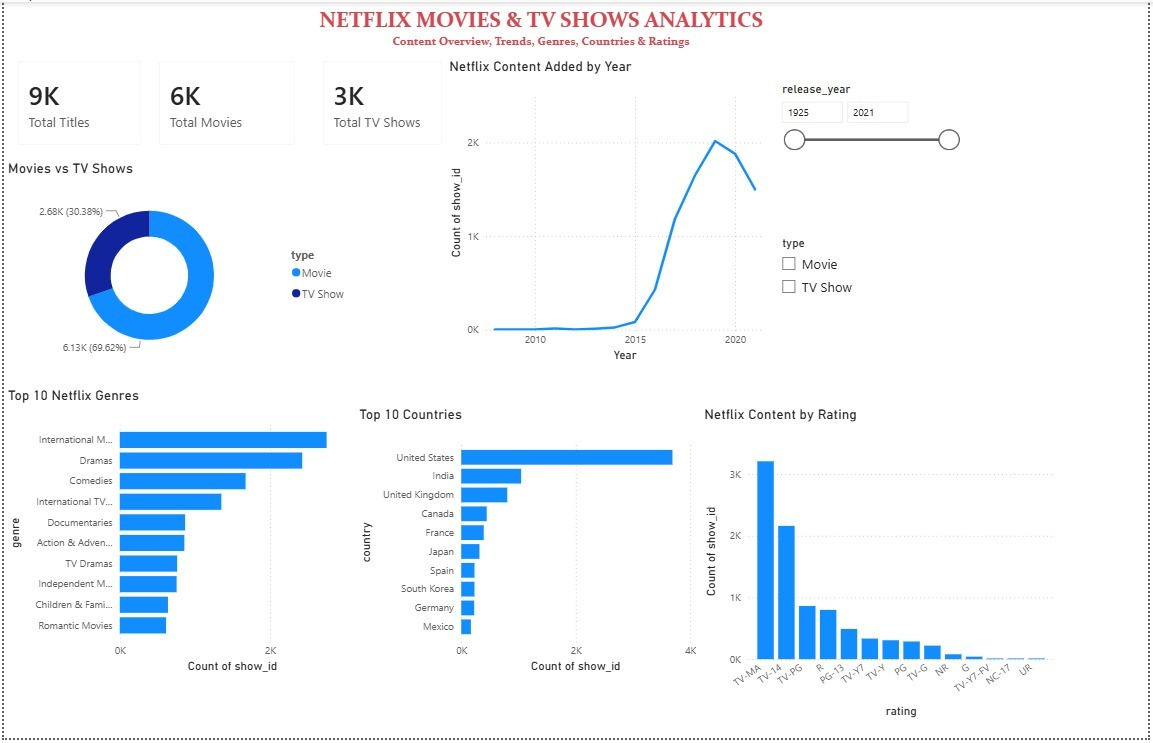

The dashboard page shown, as its layout file describes it:
{"tool":"powerbi","page":{"name":"Netflix Dashboard","canvas":[1400,900],"ordinal":0},"visuals":[{"type":"cardVisual","fields":{"Data":["netflix_db netflix.Total Titles"]},"box":[0,55.7,185.7,137.1],"z":0},{"type":"cardVisual","fields":{"Data":["netflix_db netflix.Total Movies"]},"box":[172.9,55.7,200,137.1],"z":1000},{"type":"cardVisual","fields":{"Data":["netflix_db netflix.Total TV Shows"]},"box":[372.9,55.7,180,137.1],"z":2000},{"type":"donutChart","title":"Movies vs TV Shows","fields":{"Category":["netflix_db netflix.type"],"Y":["CountNonNull(netflix_db netflix.show_id)"]},"box":[0,192.9,430,251.4],"z":3000},{"type":"lineChart","title":"Netflix Content Added by Year","fields":{"Category":["netflix_db netflix.date_added_new.Variation.Date Hierarchy.Year"],"Y":["CountNonNull(netflix_db netflix.show_id)"]},"box":[540,68.6,397.1,375.7],"z":4000},{"type":"clusteredBarChart","title":"Top 10 Netflix Genres","fields":{"Category":["netflix_db netflix_genres.genre"],"Y":["CountNonNull(netflix_db netflix_genres.show_id)"]},"box":[0,470.8,429.5,354.6],"z":5000},{"type":"clusteredBarChart","title":"Top 10 Countries","fields":{"Category":["netflix_db netflix_countries.country"],"Y":["CountNonNull(netflix_db netflix_countries.show_id)"]},"box":[429.5,493.7,421.9,331.7],"z":6000},{"type":"clusteredColumnChart","title":"Netflix Content by Rating","fields":{"Category":["netflix_db netflix.rating"],"Y":["CountNonNull(netflix_db netflix.show_id)"]},"box":[851.4,493.7,437.2,386.7],"z":7000},{"type":"slicer","fields":{"Values":["netflix_db netflix.release_year"]},"box":[938.5,93.2,238.6,164.3],"z":8000},{"type":"slicer","fields":{"Values":["netflix_db netflix.type"]},"box":[938.5,281.3,239,212],"z":9000},{"type":"textbox","box":[158.6,0,995.7,68.6],"z":10000}]}

Visuals, with their boxes in screenshot pixels (x1, y1, x2, y2), scaled from the page's 1400x900 canvas onto the 1153x743 screenshot:
cardVisual - netflix_db netflix.Total Titles: 0,46,153,159
cardVisual - netflix_db netflix.Total Movies: 142,46,307,159
cardVisual - netflix_db netflix.Total TV Shows: 307,46,455,159
"Movies vs TV Shows" donutChart: 0,159,354,367
"Netflix Content Added by Year" lineChart: 445,57,772,367
"Top 10 Netflix Genres" clusteredBarChart: 0,389,354,681
"Top 10 Countries" clusteredBarChart: 354,408,701,681
"Netflix Content by Rating" clusteredColumnChart: 701,408,1061,727
slicer - netflix_db netflix.release_year: 773,77,969,213
slicer - netflix_db netflix.type: 773,232,970,407
textbox: 131,0,951,57
